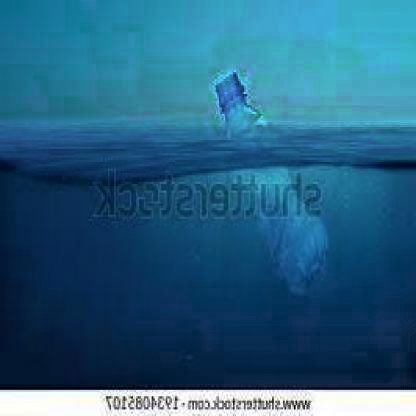pbottle: (206, 66, 336, 302)
